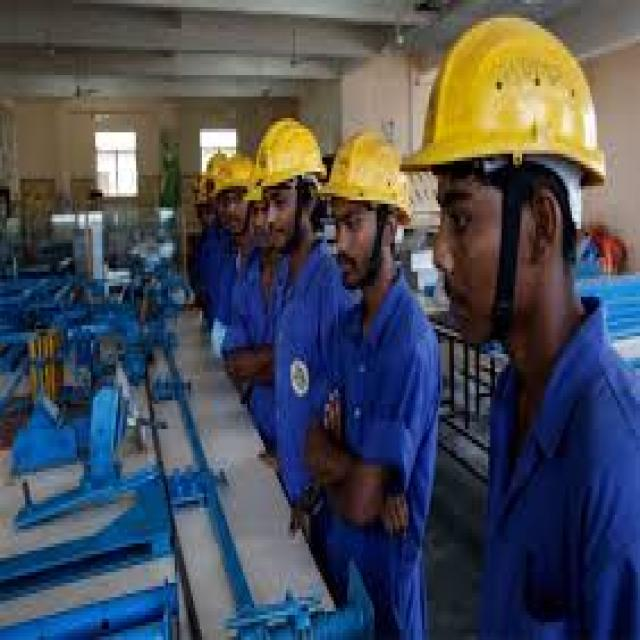Safety-Helmet: (406, 7, 613, 200), (322, 118, 418, 236), (250, 107, 326, 200), (216, 151, 250, 198)
